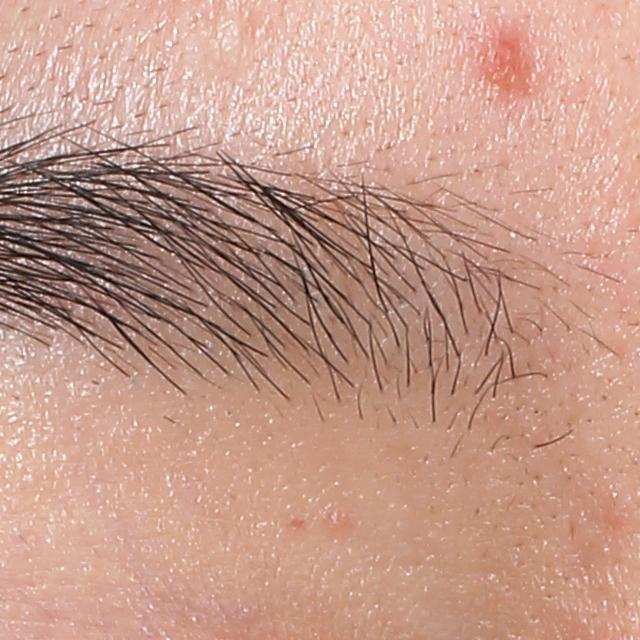papule: (471, 16, 534, 96)
